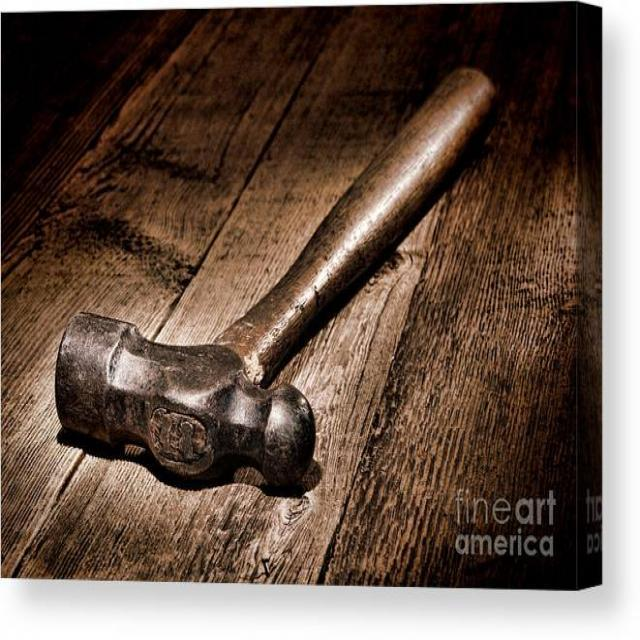hammer: (52, 54, 510, 496)
